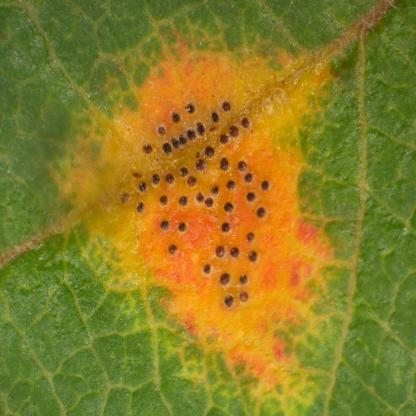Apple rust leaf: (46, 25, 352, 398)
